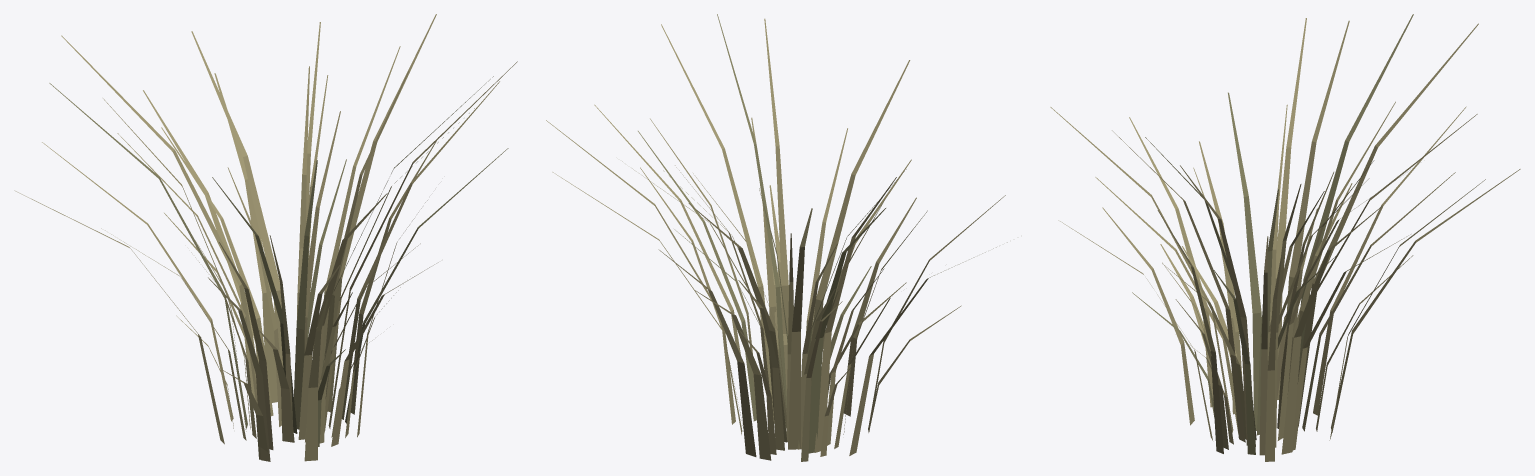
The model's file is ZR_WildGrass.fbx.
The picture shows the model from 3 angles, left to right: view 1: azimuth 30°, elevation 25°; view 2: azimuth 150°, elevation 25°; view 3: azimuth 270°, elevation 25°; orthographic projection. The views are drawn at different scales.
Visible parts, largest first — view 1: ZR_WildGrass; view 2: ZR_WildGrass; view 3: ZR_WildGrass.
Part boxes in pixels (left/top/right/bottom): ZR_WildGrass: left=14, top=14, right=517, bottom=461; ZR_WildGrass: left=546, top=14, right=1007, bottom=461; ZR_WildGrass: left=1050, top=14, right=1520, bottom=461.
Size of the model in its own units: 0.9084 by 0.6759 by 0.7924.
